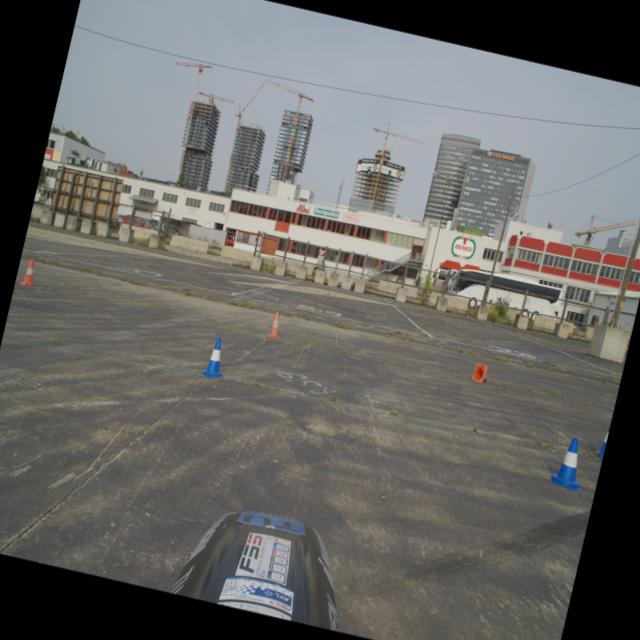blue_cone: (548, 434, 590, 492), (200, 336, 232, 380), (590, 422, 610, 460)
orange_cone: (18, 257, 42, 288), (267, 311, 285, 340), (470, 362, 490, 384)
